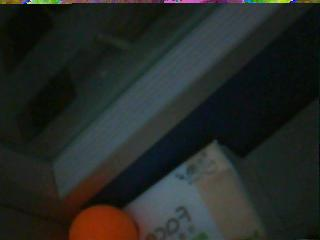oball: (69, 203, 137, 240)
